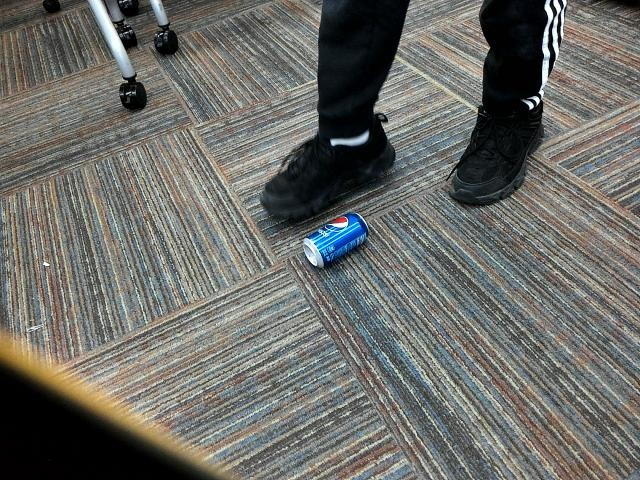can: (296, 209, 375, 270)
